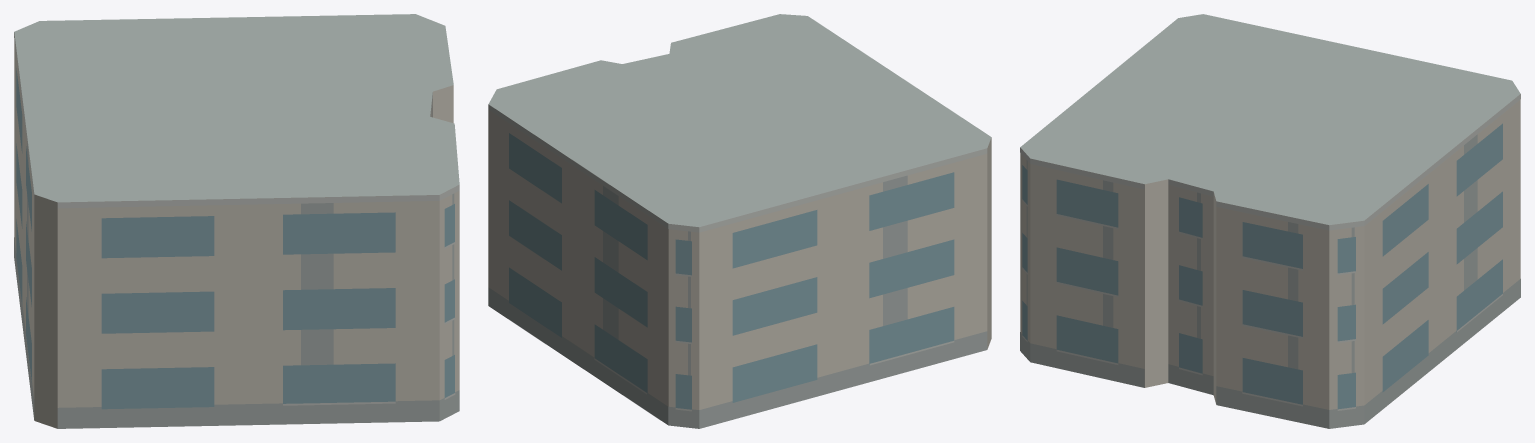
Rendered from survey-upis-32747951.glb.
3 views of the same model, side by side, from view 1: azimuth 30°, elevation 25°; view 2: azimuth 150°, elevation 25°; view 3: azimuth 270°, elevation 25° (orthographic). The views are drawn at different scales.
Visible parts, largest first — view 1: survey-upis-32747951.tmp; view 2: survey-upis-32747951.tmp; view 3: survey-upis-32747951.tmp.
Part boxes in pixels (<box>): survey-upis-32747951.tmp: <box>14,14,459,428</box>; survey-upis-32747951.tmp: <box>488,14,991,428</box>; survey-upis-32747951.tmp: <box>1020,14,1520,428</box>.
Bounding box in the file's own units: 20.35 × 9.15 × 20.38.
